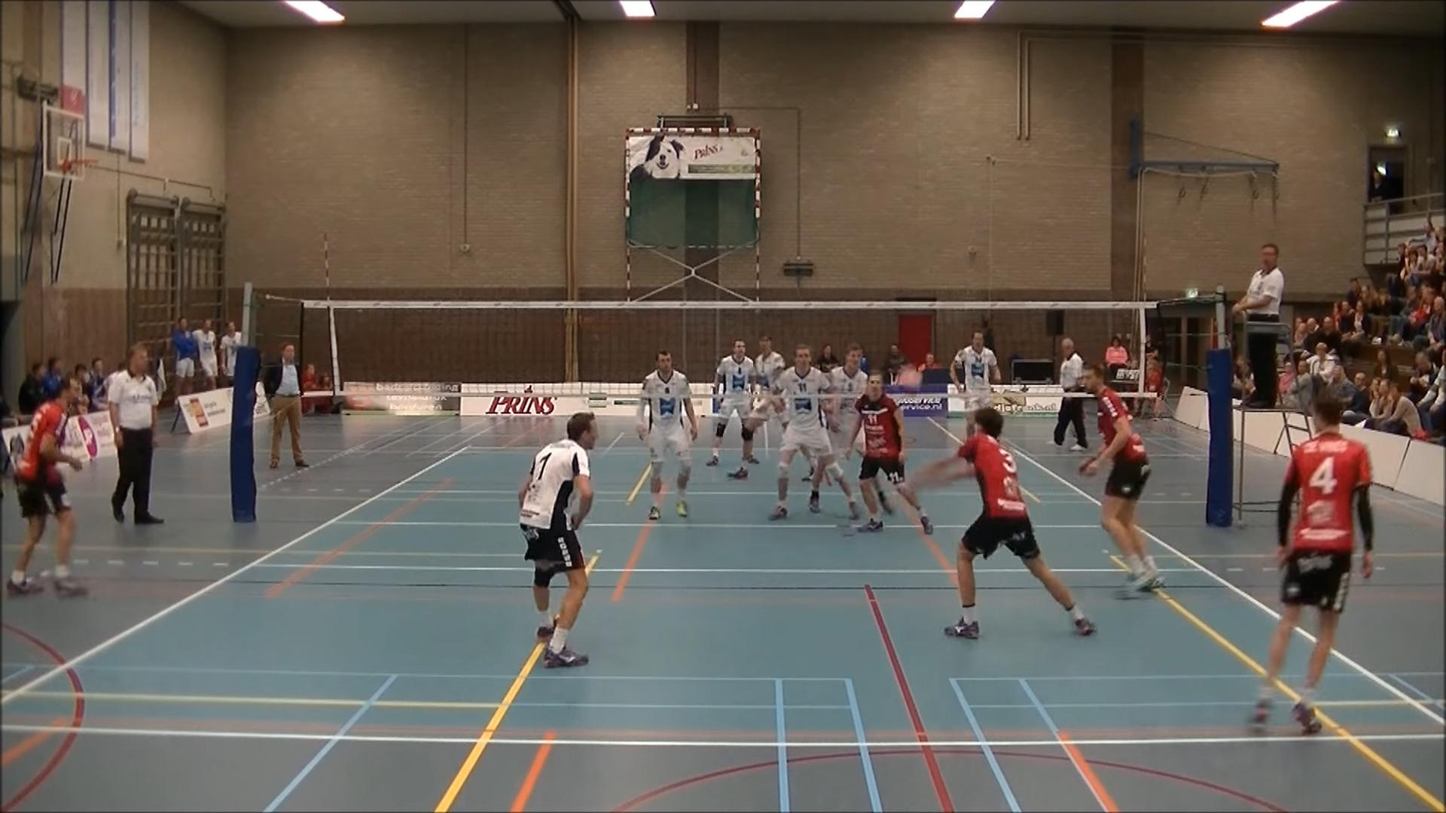ricezione: (894, 404, 1101, 642)
